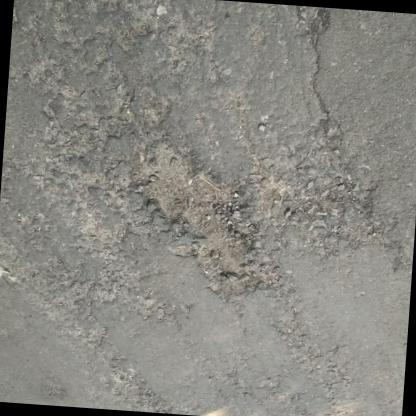pothole: (125, 143, 294, 308)
